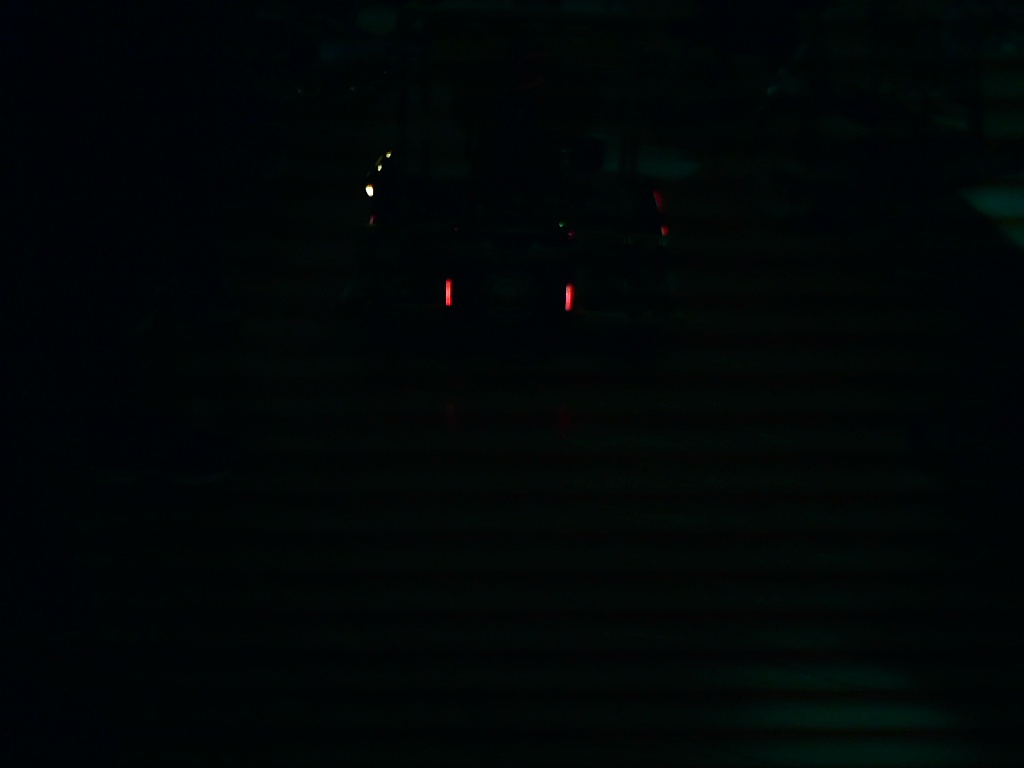lamp: (441, 273, 456, 310), (565, 280, 574, 315)
